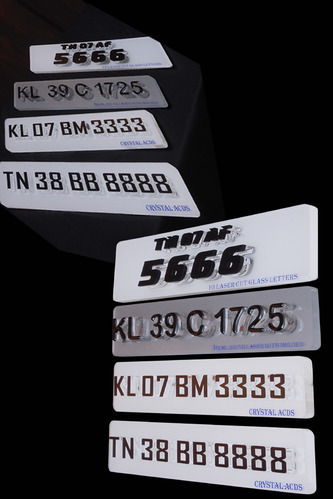number_plate: (107, 418, 320, 494), (2, 157, 201, 220), (110, 358, 317, 416), (4, 110, 170, 152), (11, 76, 171, 111)
